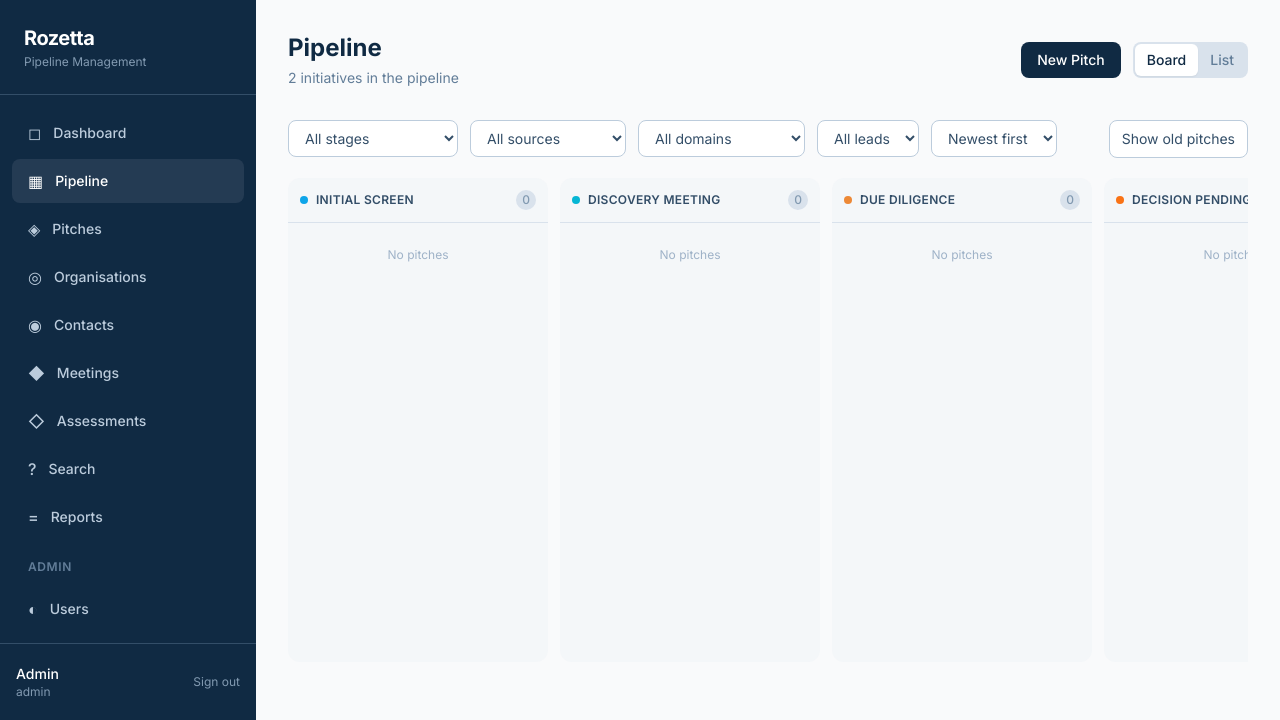
PipelinePage hides long-closed pitches › offers to show the hidden pitches, and keeps that choice in the URL
The width and height of the screenshot is (1280, 720).
Click the button "Show old pitches". click: (1178, 139)
box: [1109,120,1248,158]
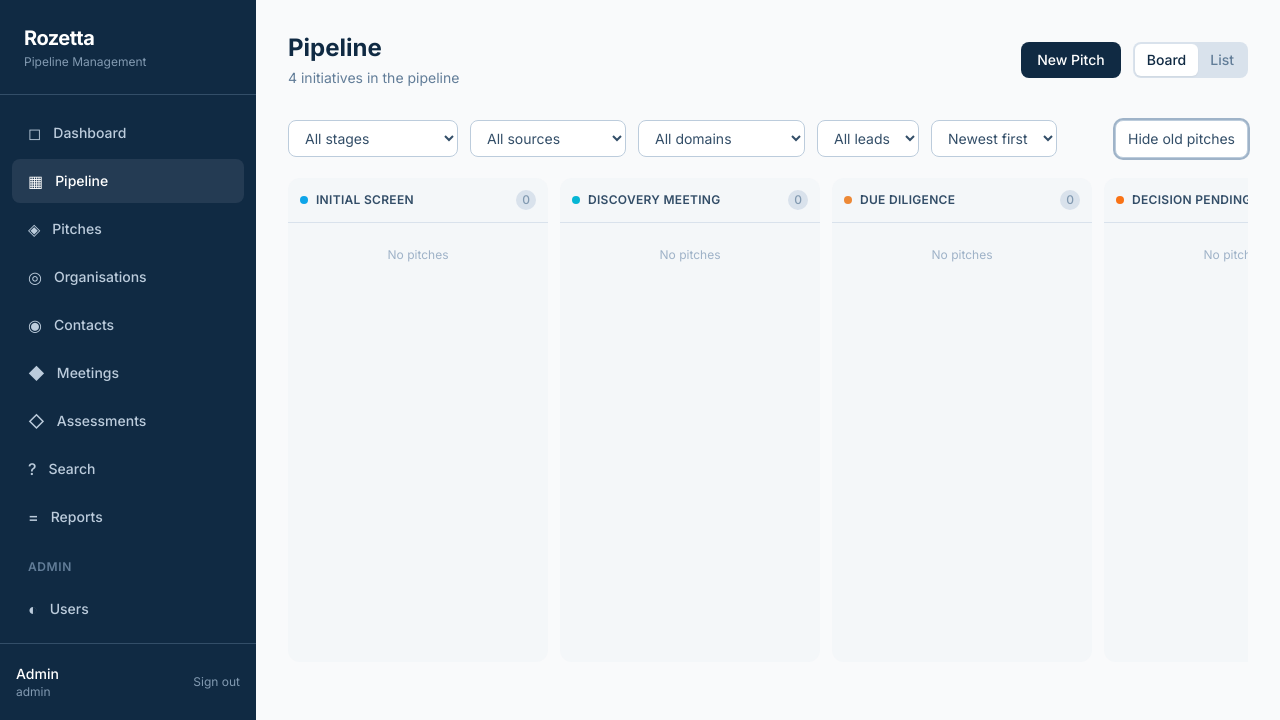
Check: the text "4 initiatives in the pipeline" is shown, box [288,68,459,88]
Click the button "Hide old pitches". click: (1182, 139)
box: [1115,120,1248,158]
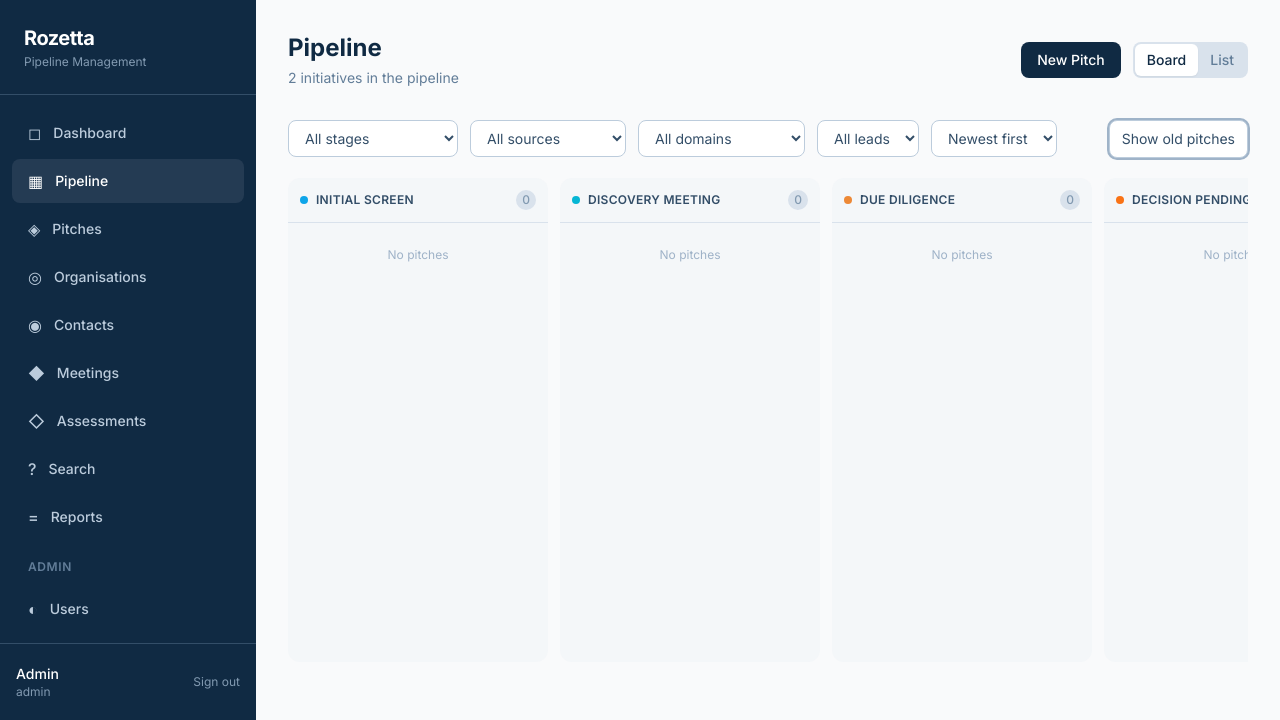
Check: the button "Show old pitches" is shown, box [1109,120,1248,158]
